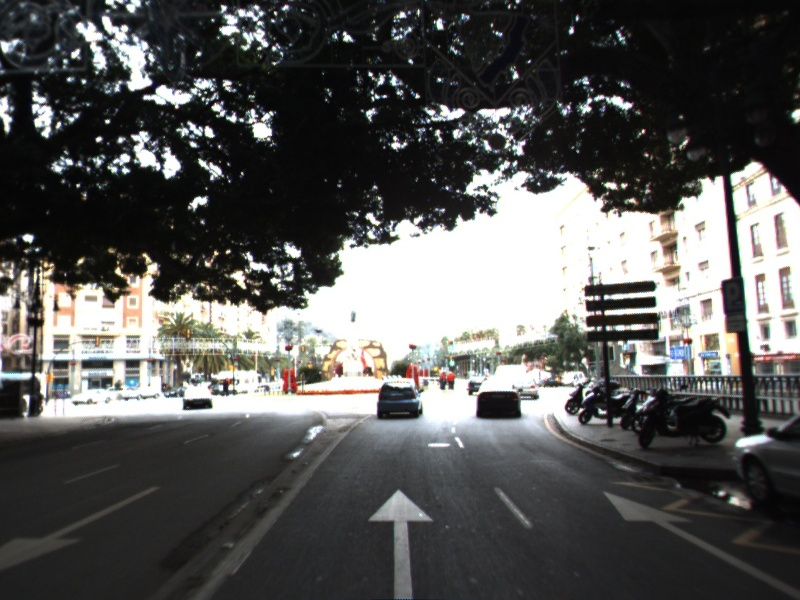STRAIGHT: (599, 487, 800, 598), (364, 485, 437, 600)
